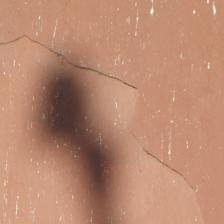Crack: (37, 79, 98, 224), (108, 30, 164, 111)
